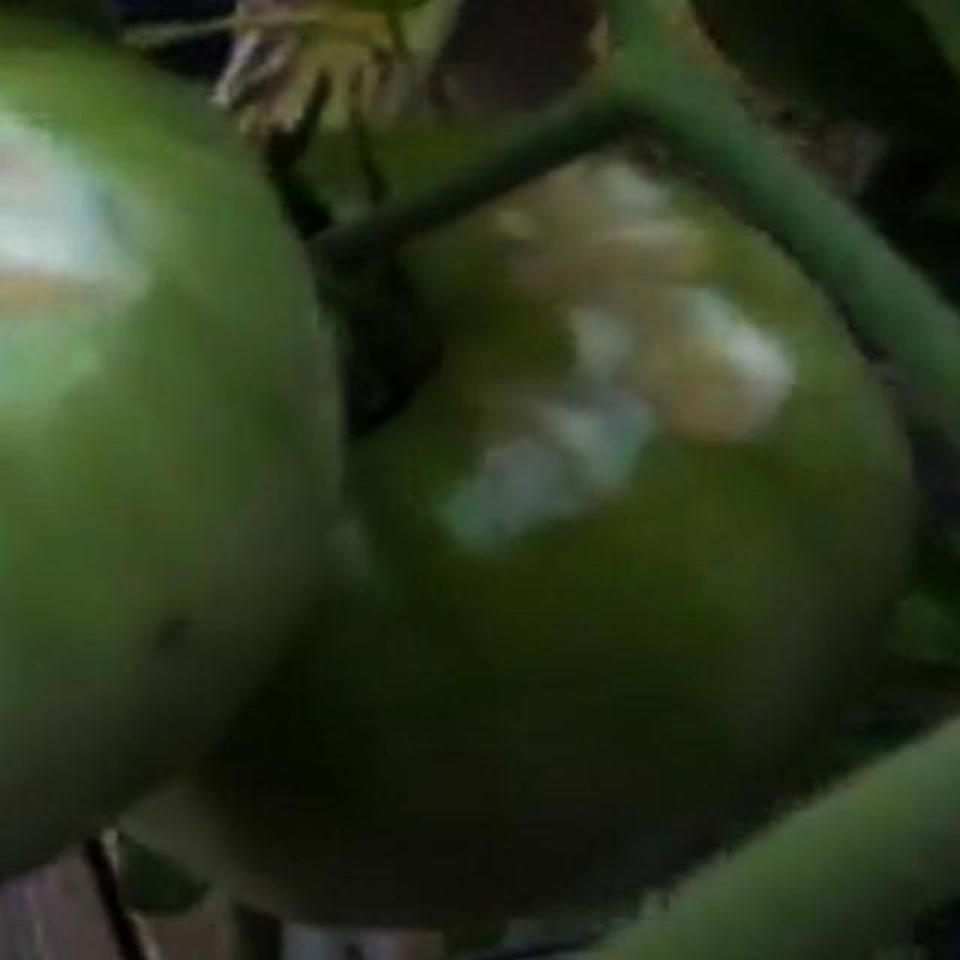Sunscald: (397, 120, 806, 564), (0, 78, 160, 462)
